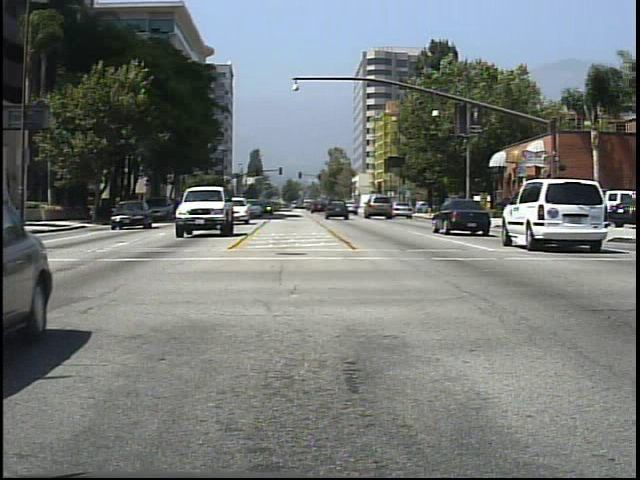person: (507, 192, 526, 231), (462, 191, 479, 226)
